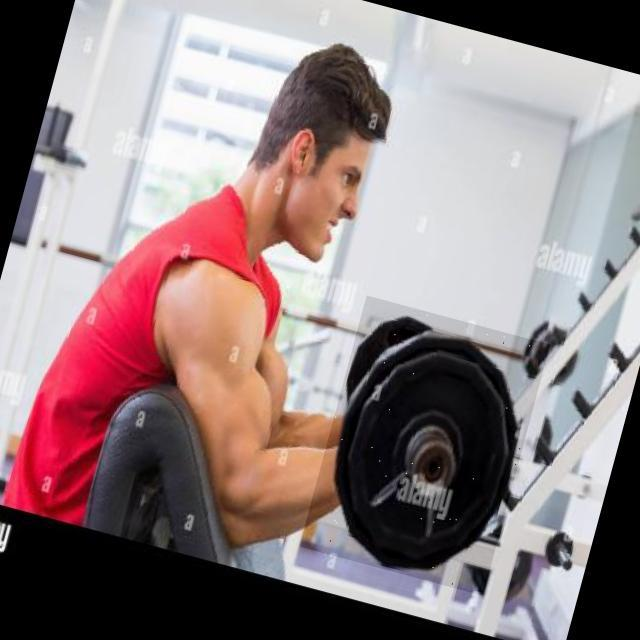barbell: (300, 297, 551, 597)
